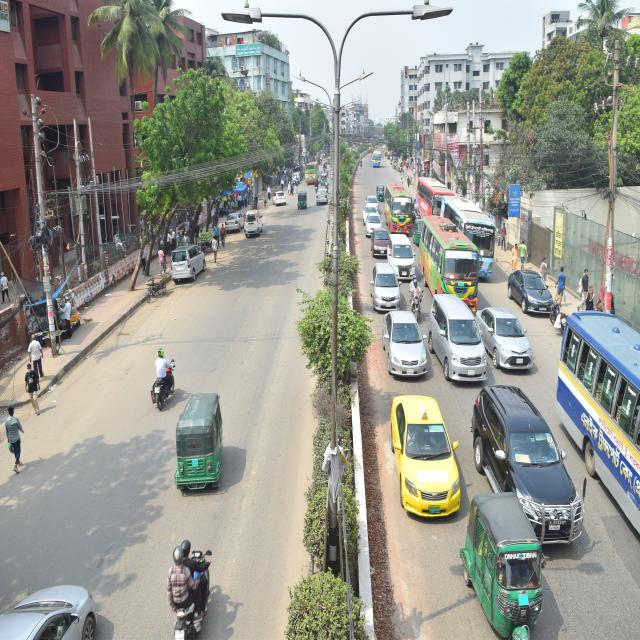bus: (422, 193, 474, 290), (443, 199, 500, 270), (380, 178, 424, 248), (304, 161, 322, 186)
car: (469, 370, 588, 564), (393, 399, 461, 548), (432, 290, 489, 394), (480, 306, 526, 376), (388, 306, 433, 377), (506, 262, 556, 321), (369, 260, 404, 319), (386, 226, 421, 280), (369, 228, 392, 259), (359, 220, 381, 238), (225, 212, 244, 232), (365, 209, 381, 230), (364, 200, 386, 213), (315, 186, 329, 205), (272, 189, 286, 206)
microbus: (170, 243, 207, 286), (414, 180, 454, 215), (243, 206, 264, 237)
motorbike: (165, 529, 214, 640), (147, 348, 180, 410), (406, 269, 430, 314)
